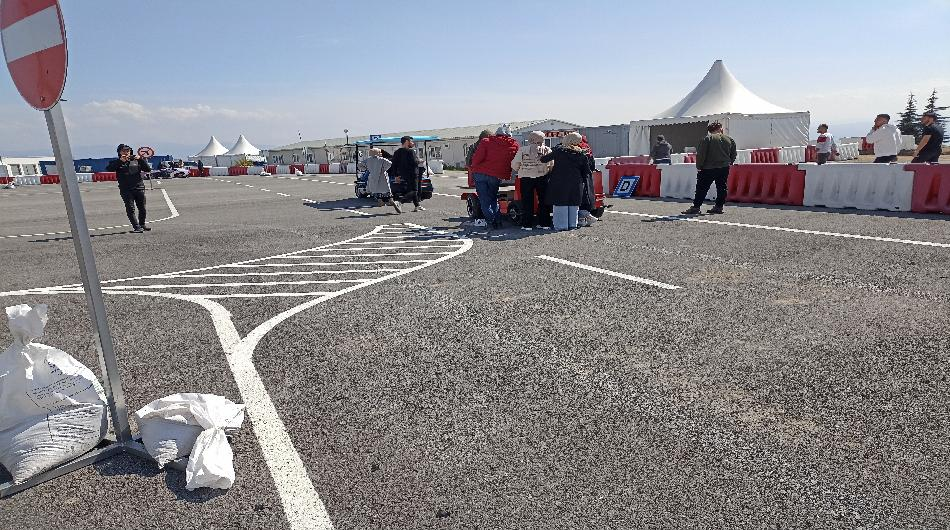yol_calismasi: (211, 219, 505, 352)
